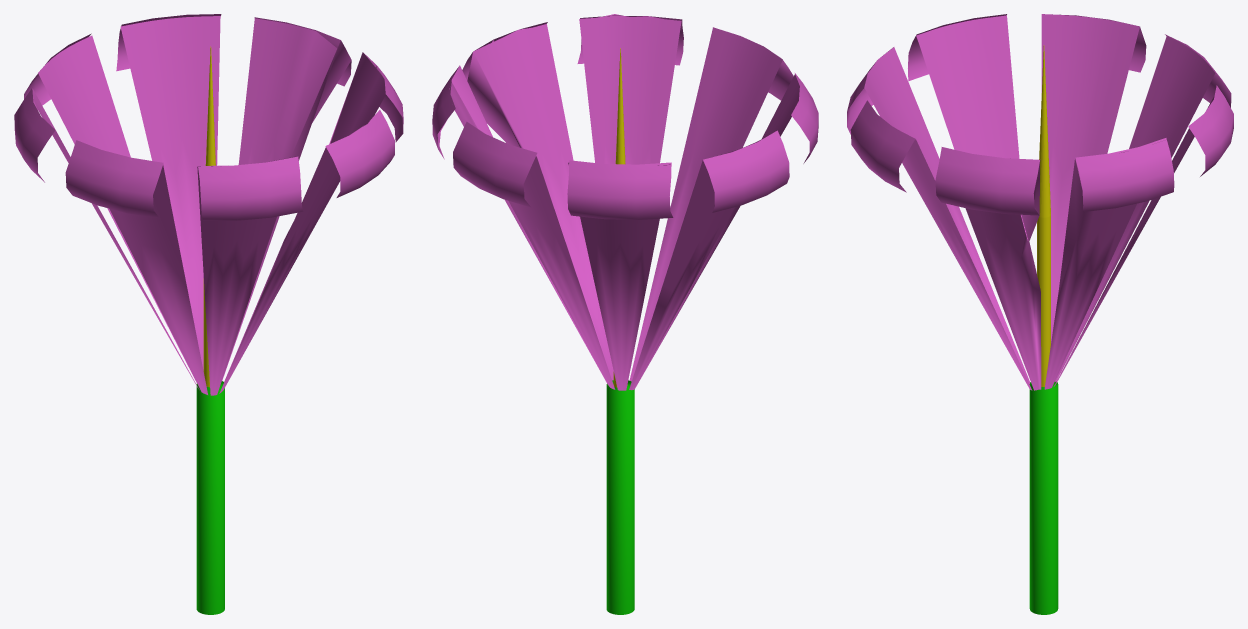
Rendered from flower.glb.
3 renders of one model, left to right at view 1: azimuth 30°, elevation 25°; view 2: azimuth 150°, elevation 25°; view 3: azimuth 270°, elevation 25°, orthographic.
Parts seen in each view (by area): view 1: Cone, Cylinder, Petal_3, Petal_2, Petal_4, Petal, Middle_part, Petal_5, Petal_7; view 2: Cone, Cylinder, Petal_8, Petal, Petal_7, Petal_2, Petal_6, Middle_part, Petal_3; view 3: Cone, Cylinder, Petal_5, Petal_6, Middle_part, Petal_4, Petal_7, Petal_2, Petal_3, Petal_8, Petal.
Part boxes in pixels (x1=…): Cone: x1=32, y1=16, x2=385, y2=395; Cylinder: x1=196, y1=381, x2=224, y2=614; Petal_3: x1=198, y1=156, x2=303, y2=220; Petal_2: x1=65, y1=140, x2=163, y2=218; Petal_4: x1=325, y1=110, x2=394, y2=197; Petal: x1=14, y1=88, x2=55, y2=182; Middle_part: x1=203, y1=46, x2=215, y2=387; Petal_5: x1=364, y1=53, x2=403, y2=142; Petal_7: x1=116, y1=14, x2=221, y2=71; Cone: x1=449, y1=14, x2=799, y2=390; Cylinder: x1=606, y1=380, x2=634, y2=614; Petal_8: x1=567, y1=160, x2=673, y2=219; Petal: x1=703, y1=130, x2=789, y2=212; Petal_7: x1=453, y1=121, x2=537, y2=207; Petal_2: x1=791, y1=73, x2=818, y2=163; Petal_6: x1=432, y1=67, x2=458, y2=159; Middle_part: x1=613, y1=48, x2=627, y2=387; Petal_3: x1=768, y1=53, x2=793, y2=100; Cone: x1=864, y1=14, x2=1215, y2=390; Cylinder: x1=1029, y1=382, x2=1058, y2=614; Petal_5: x1=935, y1=147, x2=1039, y2=215; Petal_6: x1=1075, y1=138, x2=1174, y2=211; Middle_part: x1=1037, y1=45, x2=1050, y2=386; Petal_4: x1=850, y1=100, x2=915, y2=192; Petal_7: x1=1188, y1=85, x2=1233, y2=176; Petal_2: x1=908, y1=14, x2=1006, y2=81; Petal_3: x1=847, y1=47, x2=893, y2=134; Petal_8: x1=1165, y1=34, x2=1231, y2=107; Petal: x1=1052, y1=14, x2=1146, y2=72.
Bounding box in the file's own units: 2.19 × 3.51 × 2.18.
